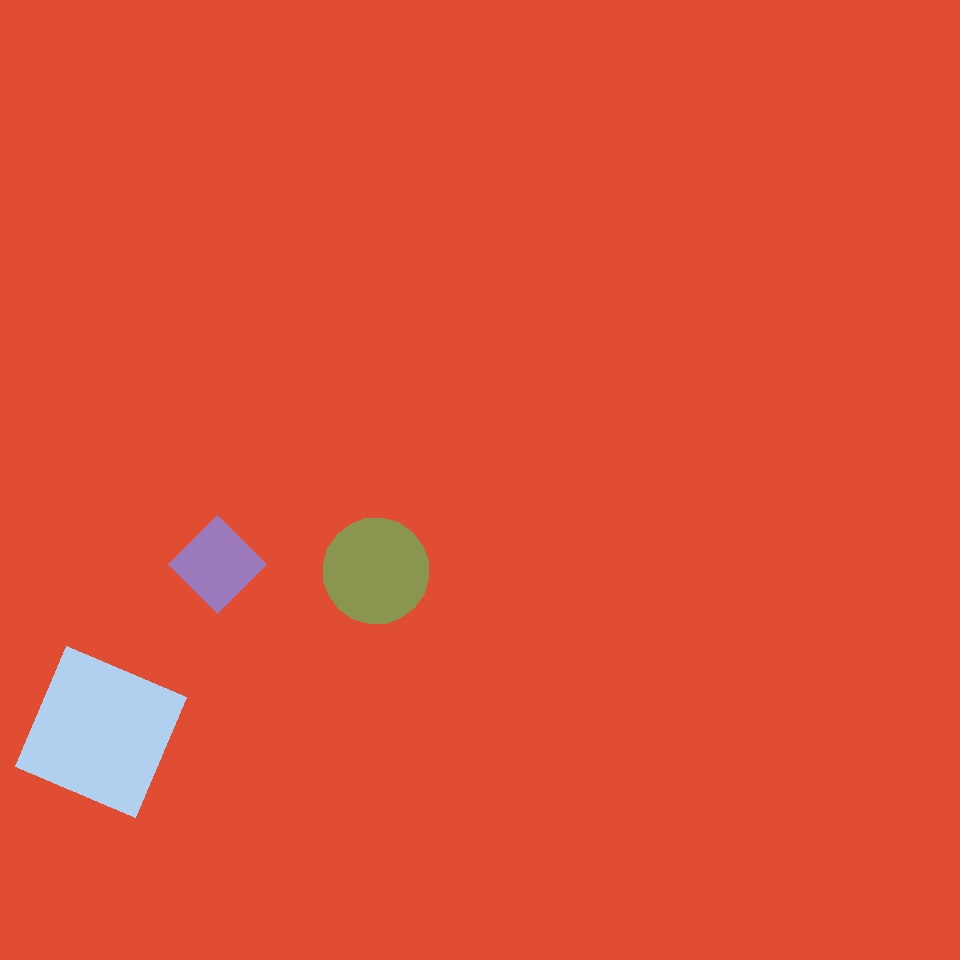circle: (249, 540, 554, 830), (78, 454, 168, 544)
square: (318, 588, 665, 936), (60, 658, 308, 905), (15, 646, 186, 818), (168, 515, 266, 613)
triangle: (548, 64, 857, 373), (569, 508, 867, 805), (324, 518, 428, 624)
